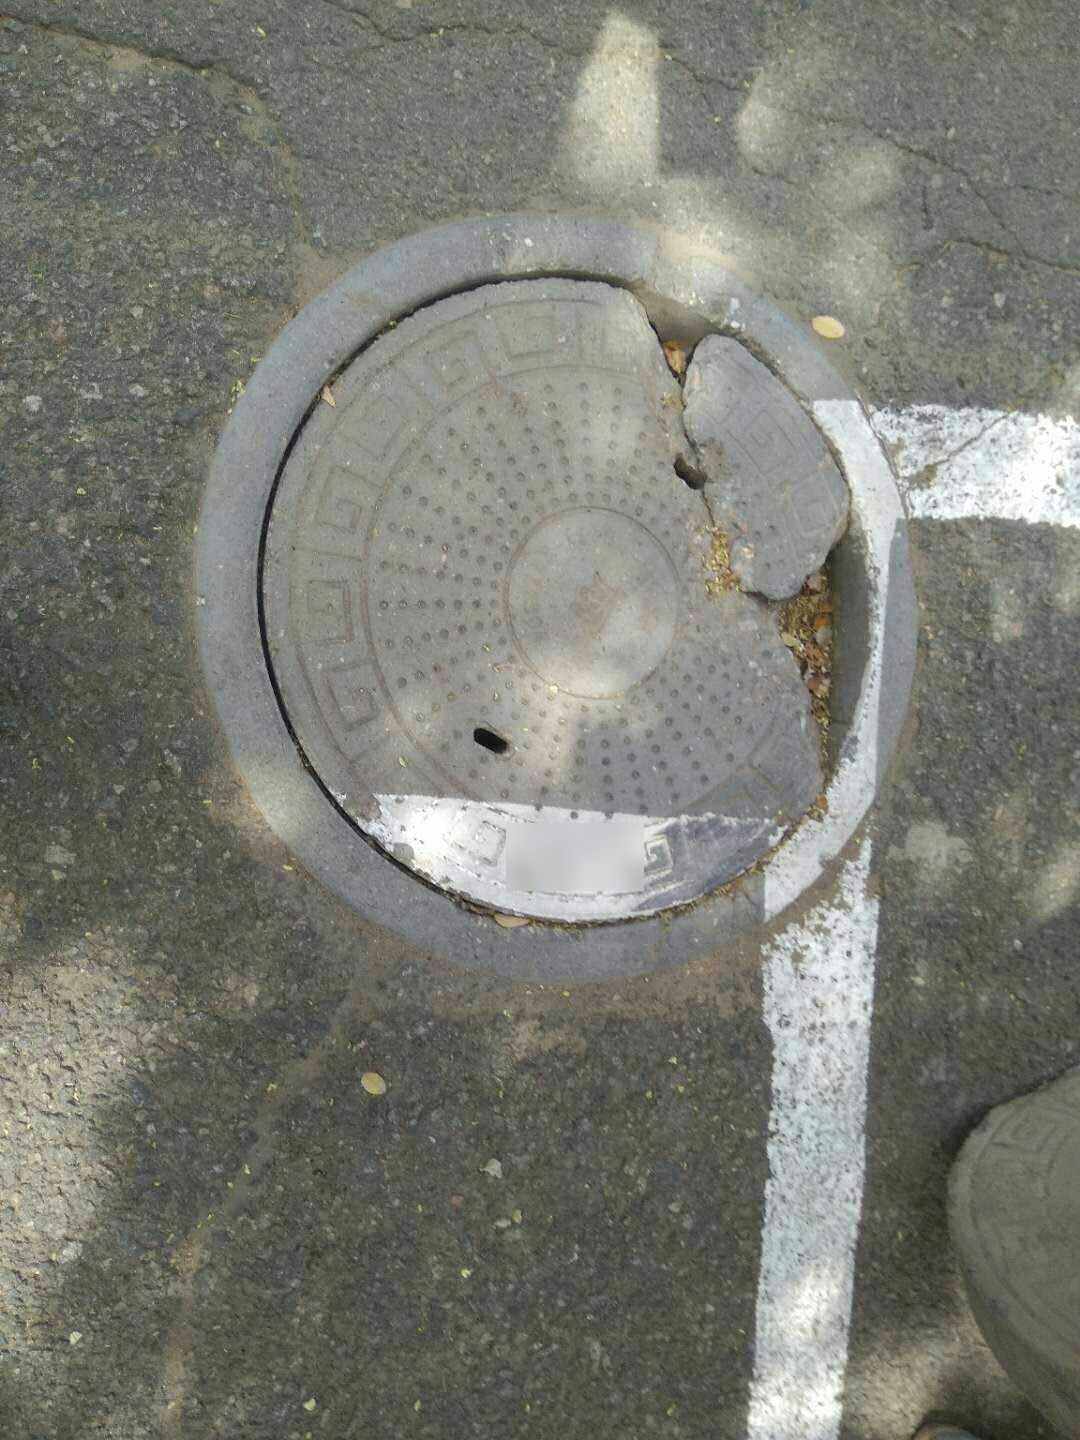broke: (194, 213, 916, 989)
